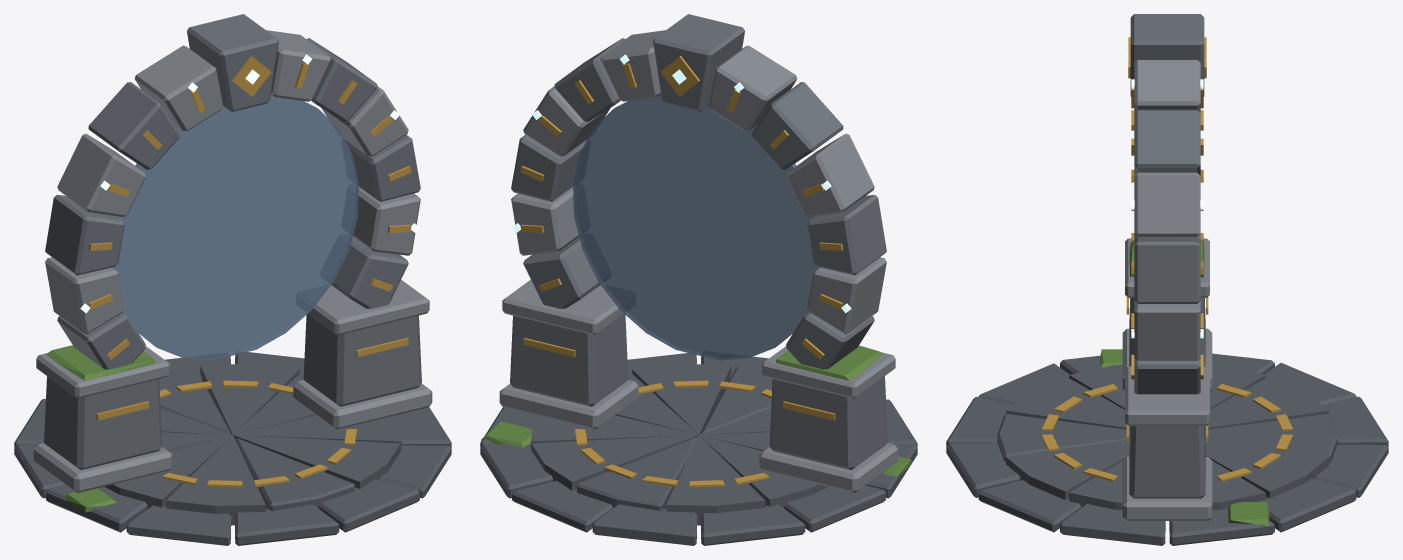
The model's file is Portal.fbx.
3 views of the same model, side by side, from view 1: azimuth 30°, elevation 25°; view 2: azimuth 150°, elevation 25°; view 3: azimuth 270°, elevation 25° (orthographic).
Visible parts, largest first — view 1: Surface, Dais, Stone, Stone2, Runes, Moss, Glyphs; view 2: Surface, Dais, Stone, Stone2, Runes, Moss, Glyphs; view 3: Dais, Stone, Stone2, Runes, Moss.
Part boxes in pixels (left/top/right/bottom): Surface: left=112, top=94, right=358, bottom=360; Dais: left=14, top=352, right=451, bottom=545; Stone: left=44, top=14, right=421, bottom=469; Stone2: left=33, top=30, right=432, bottom=492; Runes: left=88, top=56, right=411, bottom=487; Moss: left=46, top=345, right=154, bottom=512; Glyphs: left=46, top=29, right=419, bottom=313; Surface: left=573, top=94, right=819, bottom=360; Dais: left=480, top=353, right=917, bottom=545; Stone: left=510, top=14, right=887, bottom=469; Stone2: left=499, top=30, right=898, bottom=492; Runes: left=520, top=56, right=843, bottom=487; Moss: left=481, top=345, right=911, bottom=476; Glyphs: left=512, top=29, right=885, bottom=313; Dais: left=946, top=353, right=1388, bottom=545; Stone: left=1129, top=14, right=1205, bottom=498; Stone2: left=1122, top=60, right=1212, bottom=520; Runes: left=1042, top=37, right=1292, bottom=481; Moss: left=1099, top=241, right=1269, bottom=526.
Bounding box in the file's own units: 10.36 × 11.03 × 10.36.
